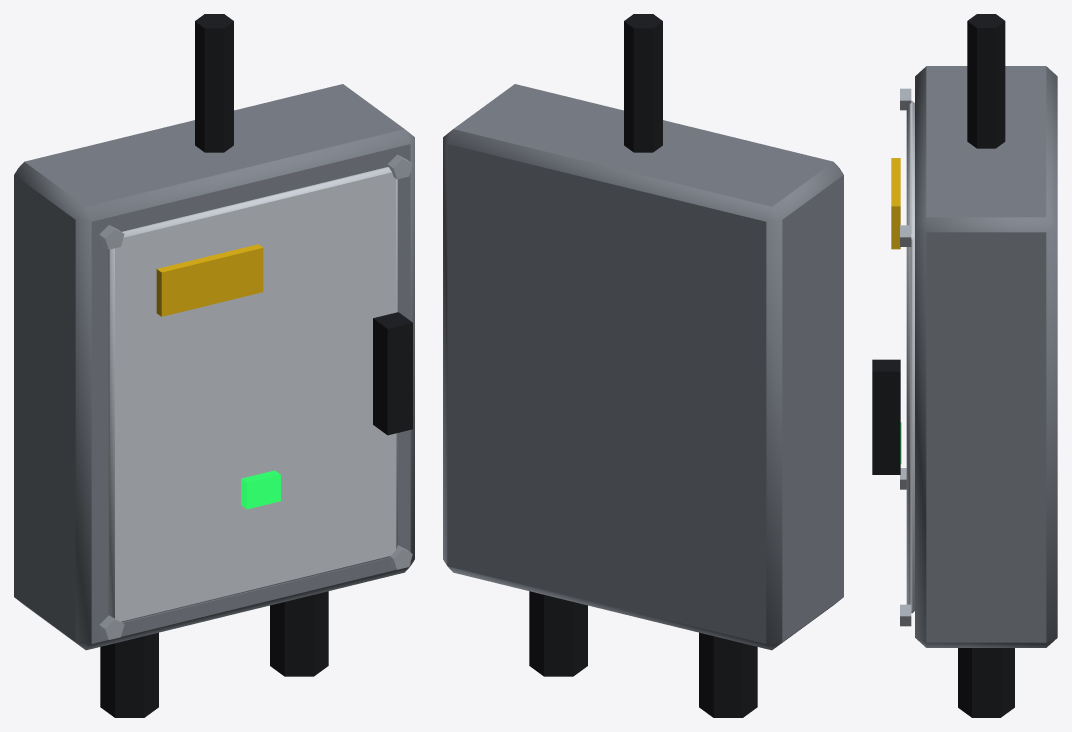
File: junction_junction_box.glb
The picture shows the model from 3 angles, left to right: view 1: azimuth 30°, elevation 25°; view 2: azimuth 150°, elevation 25°; view 3: azimuth 270°, elevation 25°; orthographic projection. The views are drawn at different scales.
Visible parts, largest first — view 1: junction_junction_box; view 2: junction_junction_box; view 3: junction_junction_box.
Boxes of the visible parts, x1,y1,x2,y2 form: junction_junction_box: [14, 14, 414, 717]; junction_junction_box: [443, 14, 843, 717]; junction_junction_box: [872, 14, 1057, 717].
Bounding box in the file's own units: 0.4 × 0.75 × 0.195.
